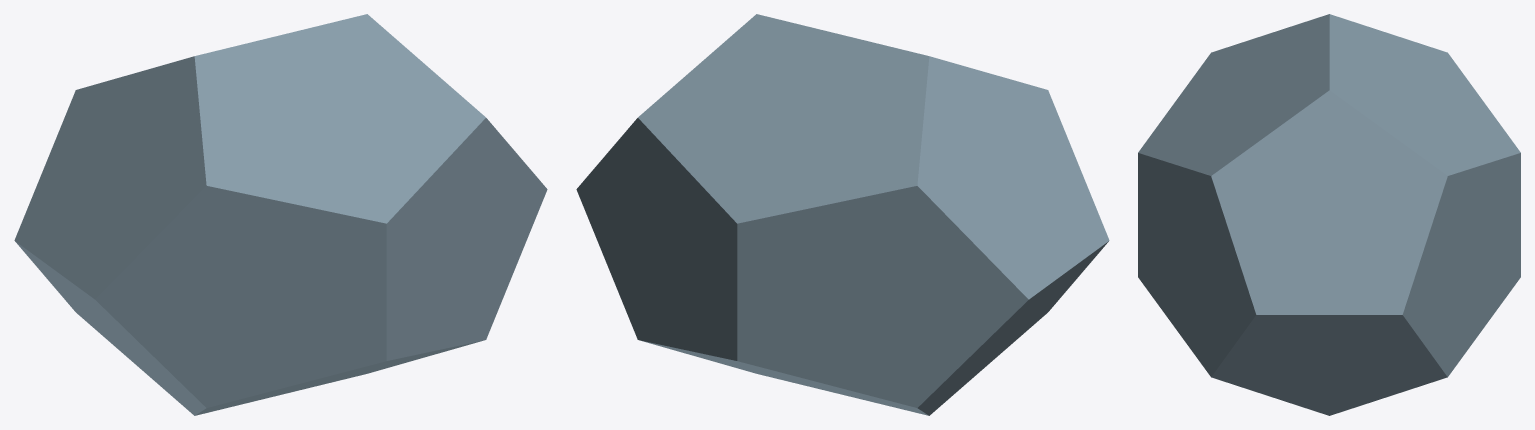
The model's file is rock.glb.
3 views of the same model, side by side, from view 1: azimuth 30°, elevation 25°; view 2: azimuth 150°, elevation 25°; view 3: azimuth 270°, elevation 25° (orthographic). The views are drawn at different scales.
Parts seen in each view (by area): view 1: rock; view 2: rock; view 3: rock.
Boxes of the visible parts, left/top/right/bottom form: rock: left=14, top=14, right=547, bottom=415; rock: left=576, top=14, right=1109, bottom=415; rock: left=1138, top=14, right=1520, bottom=415.
Bounding box in the file's own units: 1.21 × 0.923 × 0.9837.
